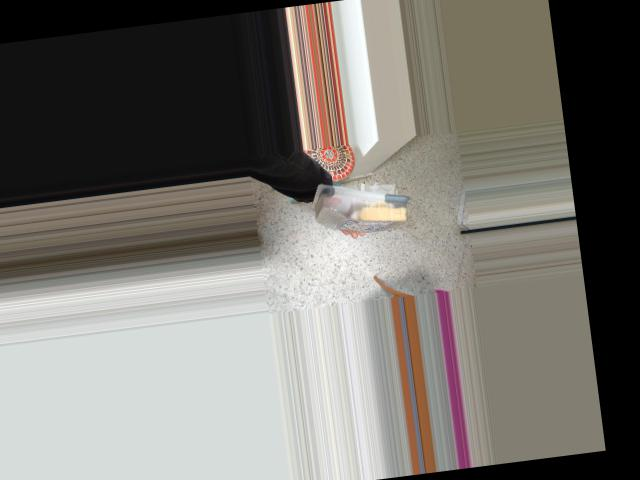cheese: (311, 170, 413, 240)
